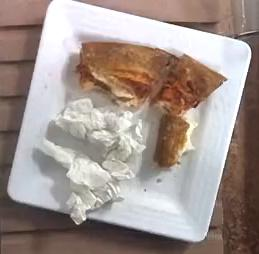pizza_crust: (79, 43, 227, 167)
